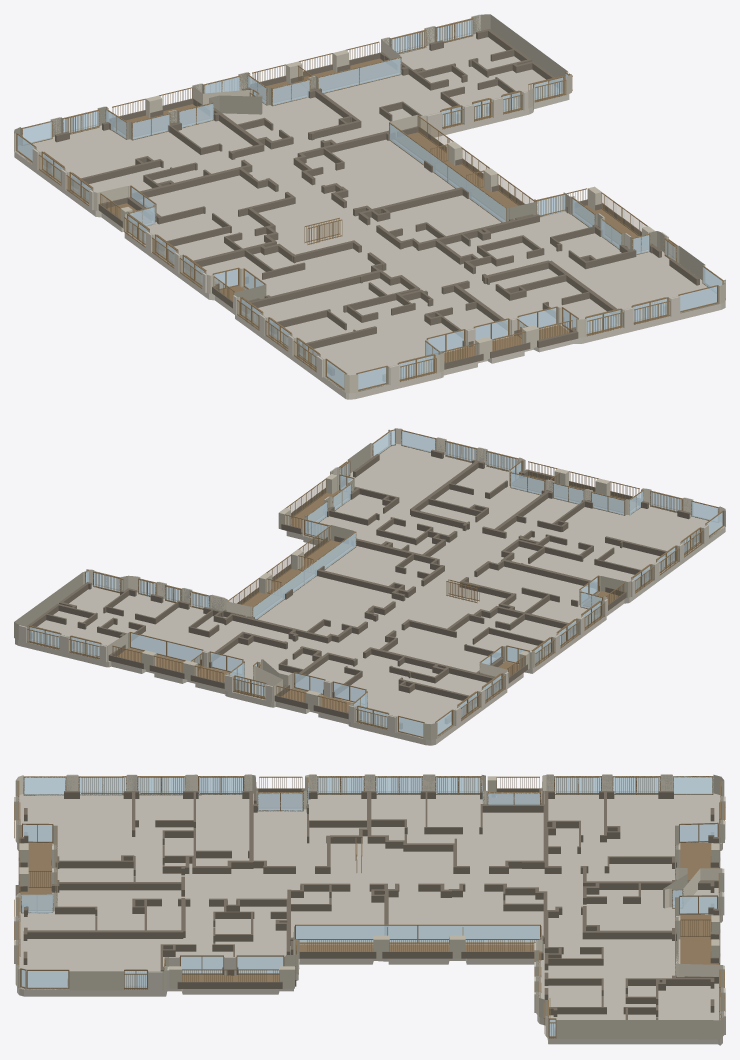
3 views of the same model, one above another, from view 1: azimuth 30°, elevation 25°; view 2: azimuth 150°, elevation 25°; view 3: azimuth 270°, elevation 25° (orthographic). The views are drawn at different scales.
Bounding box in the file's own units: 31.94 × 1.57 × 39.
